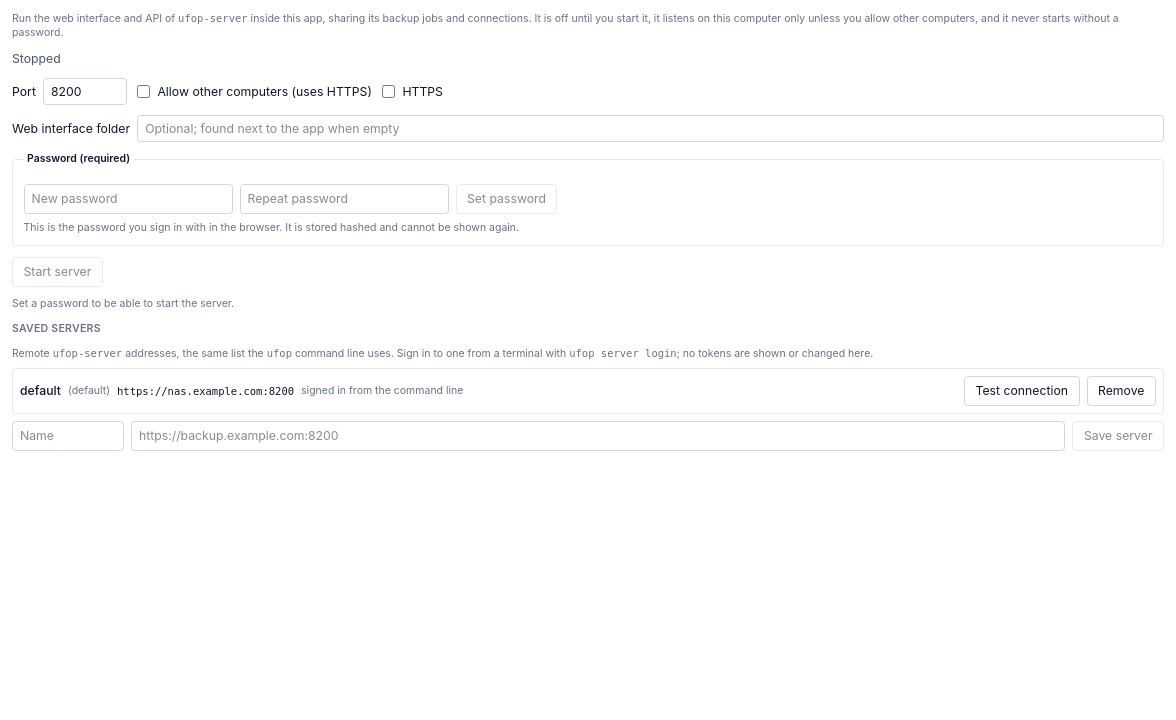
Test: Saved servers › adds and removes servers, showing the backend's reason when an address is refused
Expected: the list item with test id "server-default" is shown, [12, 368, 1164, 414]
In the field named "Server name": x=68, y=436 [12, 421, 124, 451], type "office"
In the field named "Server address": x=598, y=436 [131, 421, 1065, 451], type "https://office.example.com:8200"
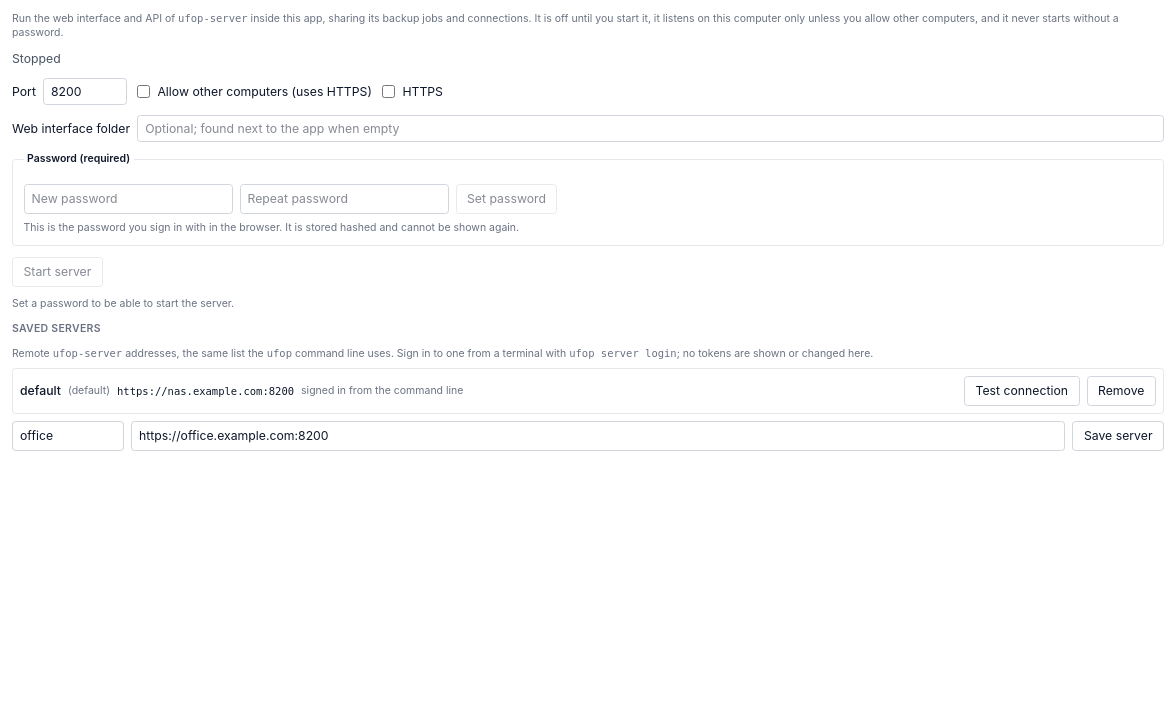
Click the button "Save server": x=1118, y=436 [1072, 421, 1164, 451]
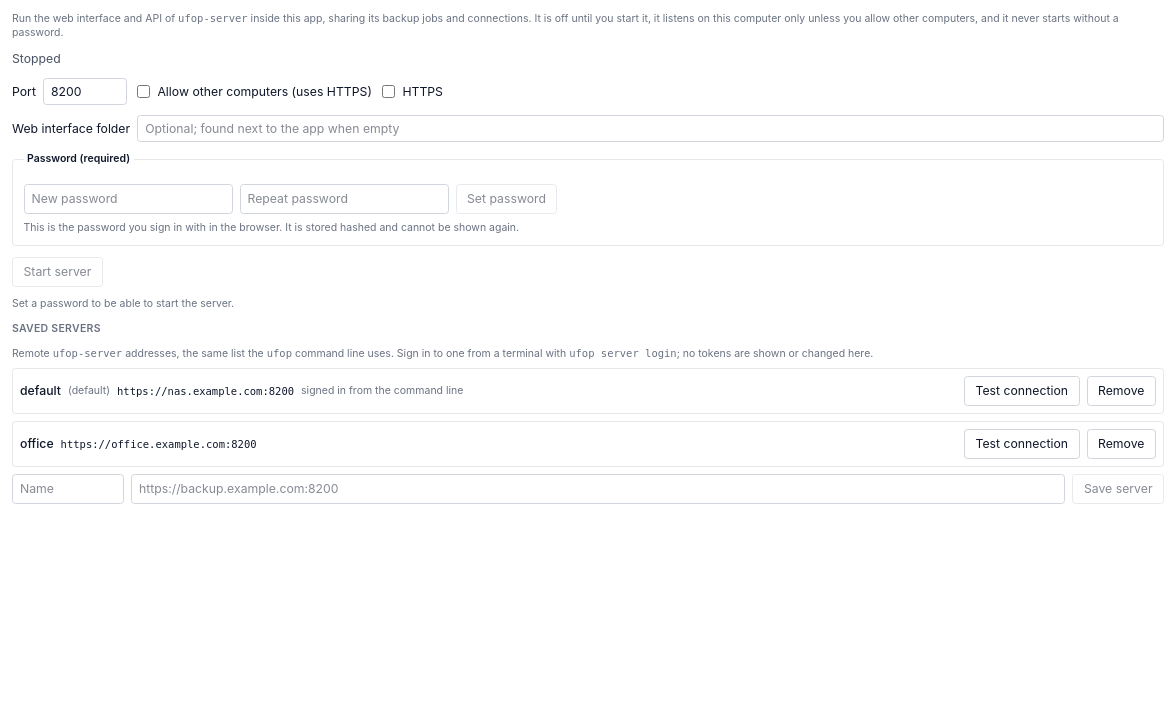
Result: the list item with test id "server-office" shows "https://office.example.com:8200" at [61, 438, 257, 450]
Click the button "Remove" in the row of "https://office.example.com:8200": x=1121, y=444 [1086, 429, 1156, 459]
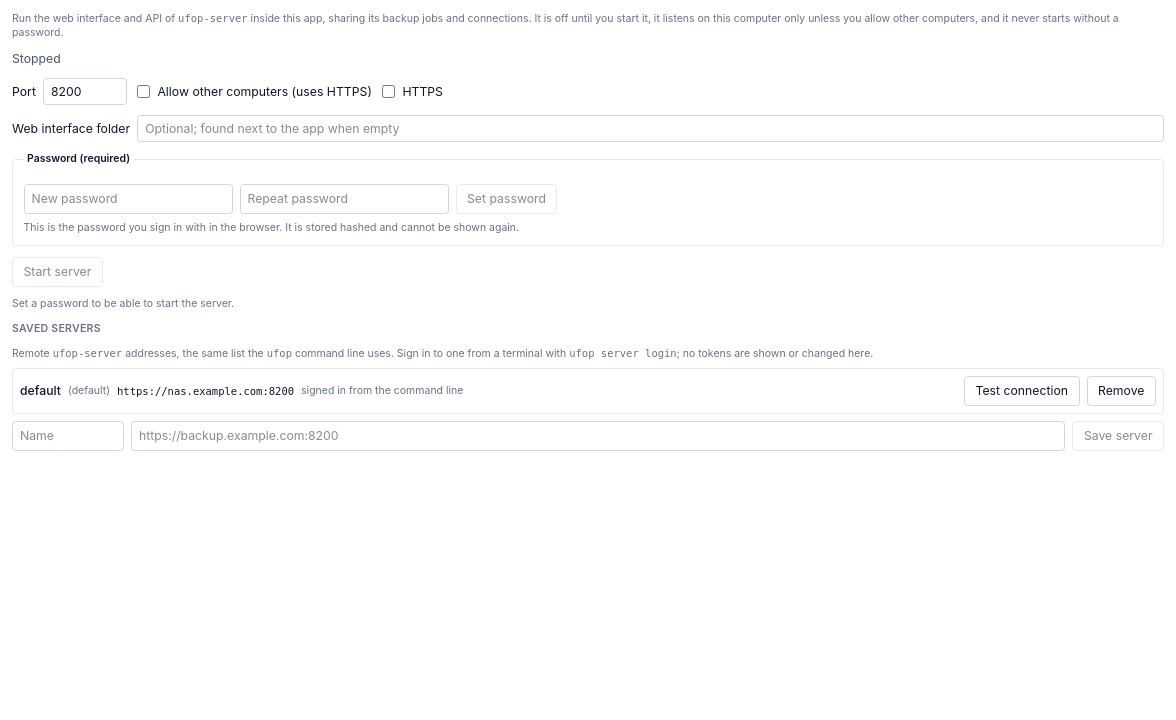
Result: the list item with test id "server-office" is gone
In the field named "Server name": x=68, y=436 [12, 421, 124, 451], type "bad"
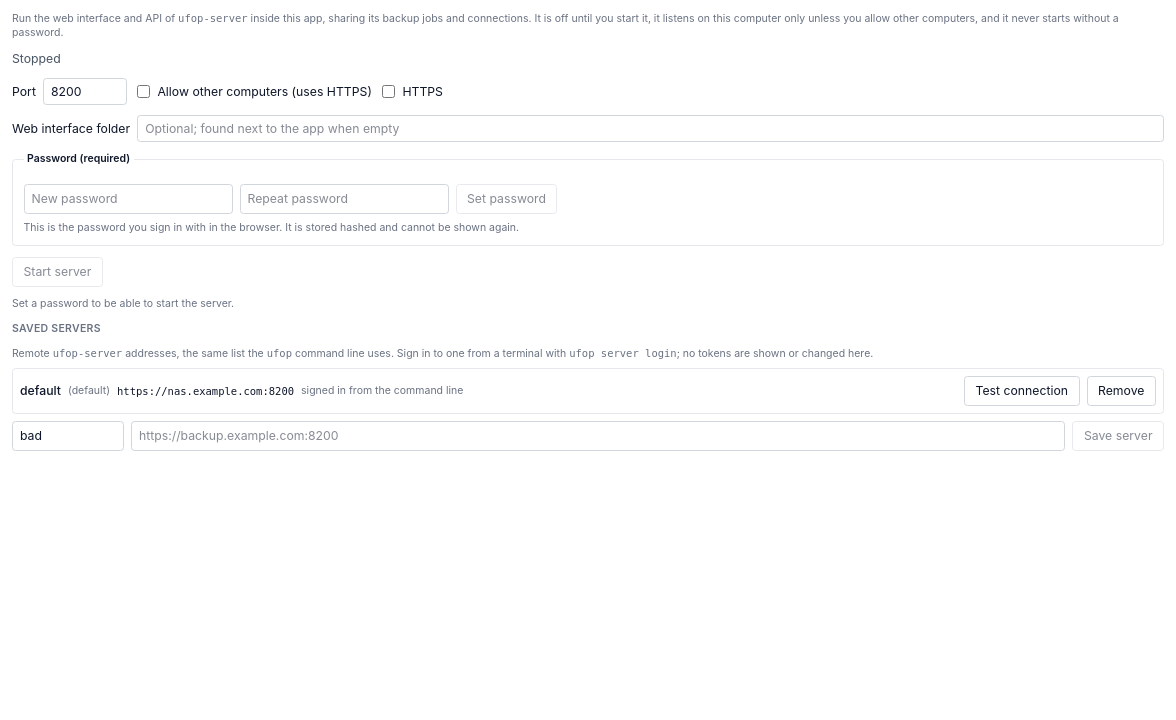
In the field named "Server address": x=598, y=436 [131, 421, 1065, 451], type "nas"
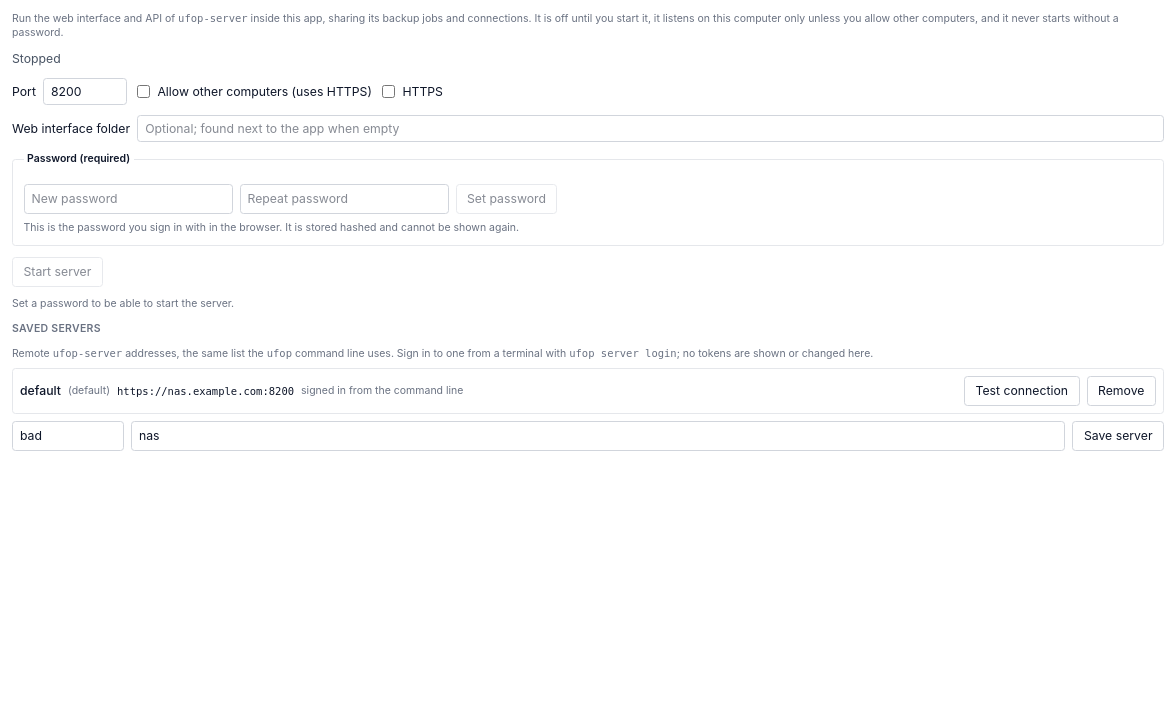
Click the button "Save server": x=1118, y=436 [1072, 421, 1164, 451]
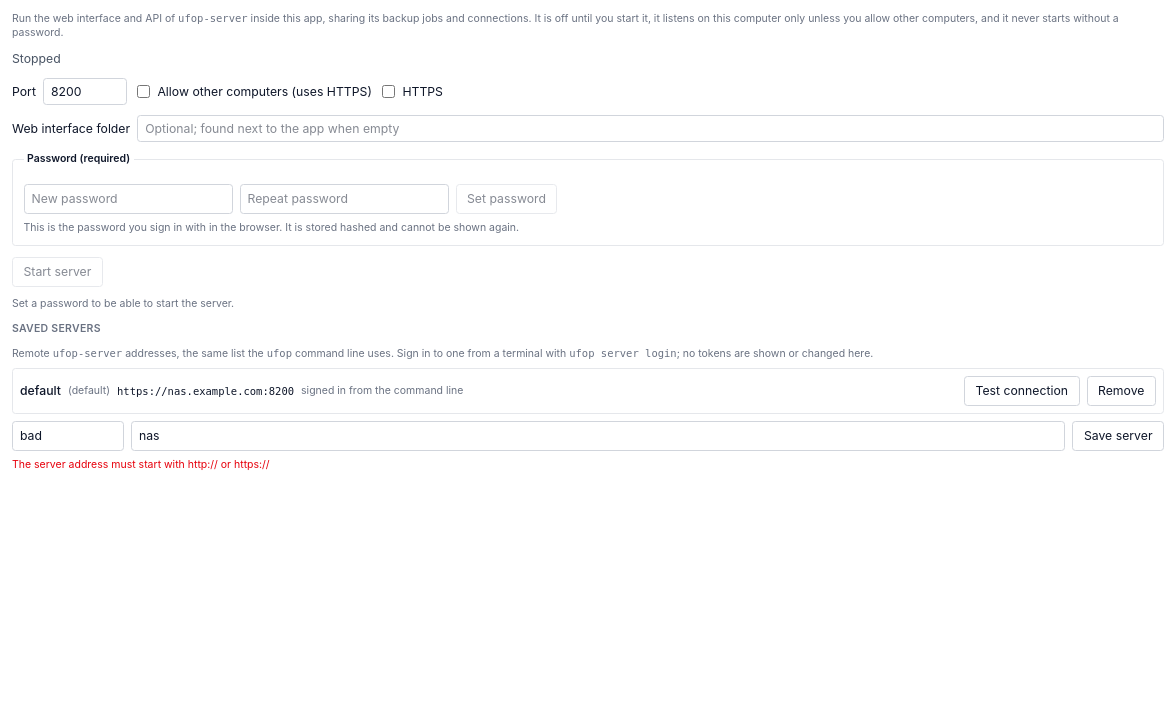
Result: the message "The server address must start with http:// or https://" is shown at [12, 458, 270, 471]
